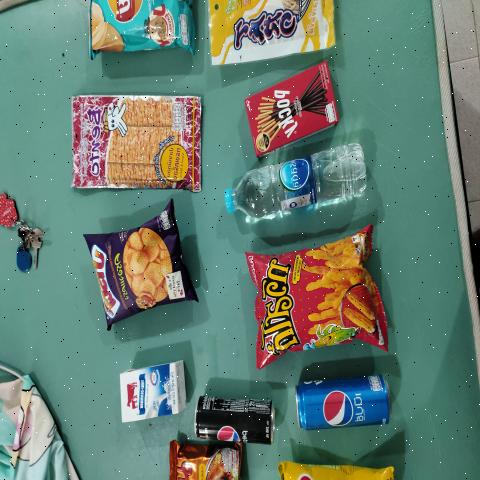bento_red: (73, 97, 203, 185)
crystal: (220, 148, 371, 227)
party_purple: (90, 213, 187, 329)
pepsi_black: (195, 399, 277, 443)
pepsi_blue: (291, 368, 391, 425)
pokki: (249, 72, 335, 155)
thai_denmark: (124, 366, 182, 419)
twisco: (256, 247, 373, 350)
